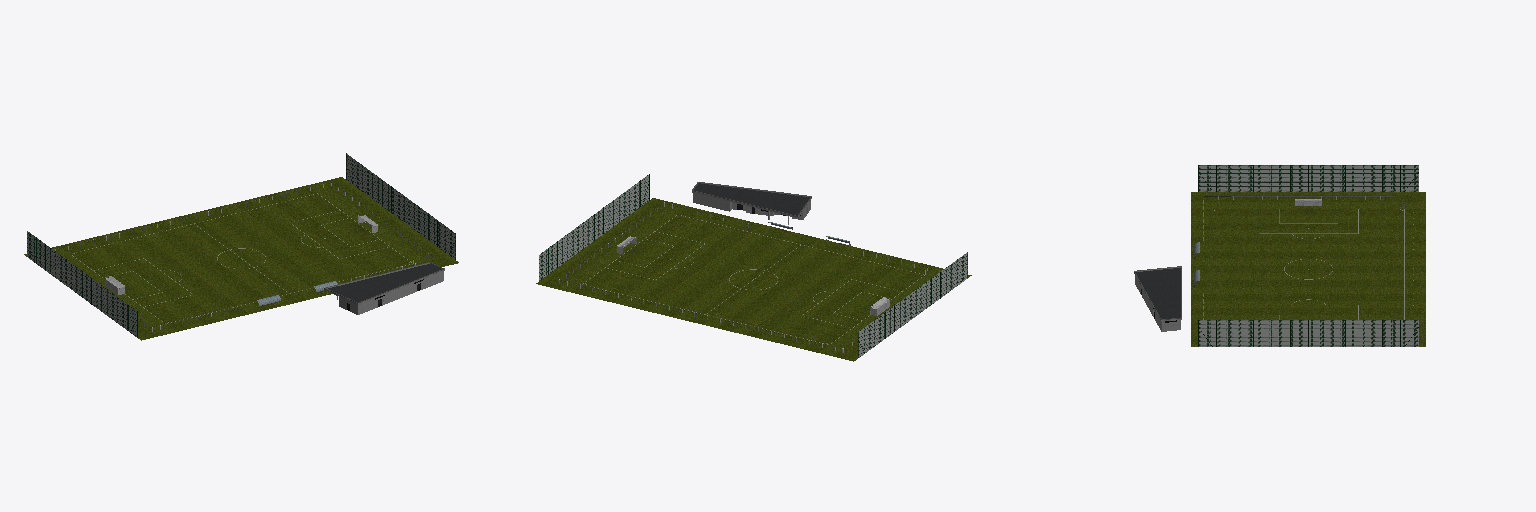
3 views of the same model, side by side, from view 1: azimuth 30°, elevation 25°; view 2: azimuth 150°, elevation 25°; view 3: azimuth 270°, elevation 25° (orthographic).
Parts seen in each view (by area): view 1: object_0; view 2: object_0; view 3: object_0.
Boxes of the visible parts, x1=… form: object_0: x1=24, y1=153, x2=458, y2=340; object_0: x1=536, y1=174, x2=971, y2=361; object_0: x1=1134, y1=165, x2=1425, y2=346.
Bounding box in the file's own units: 10015 × 803 × 7959.
1 materials, 1 textured.